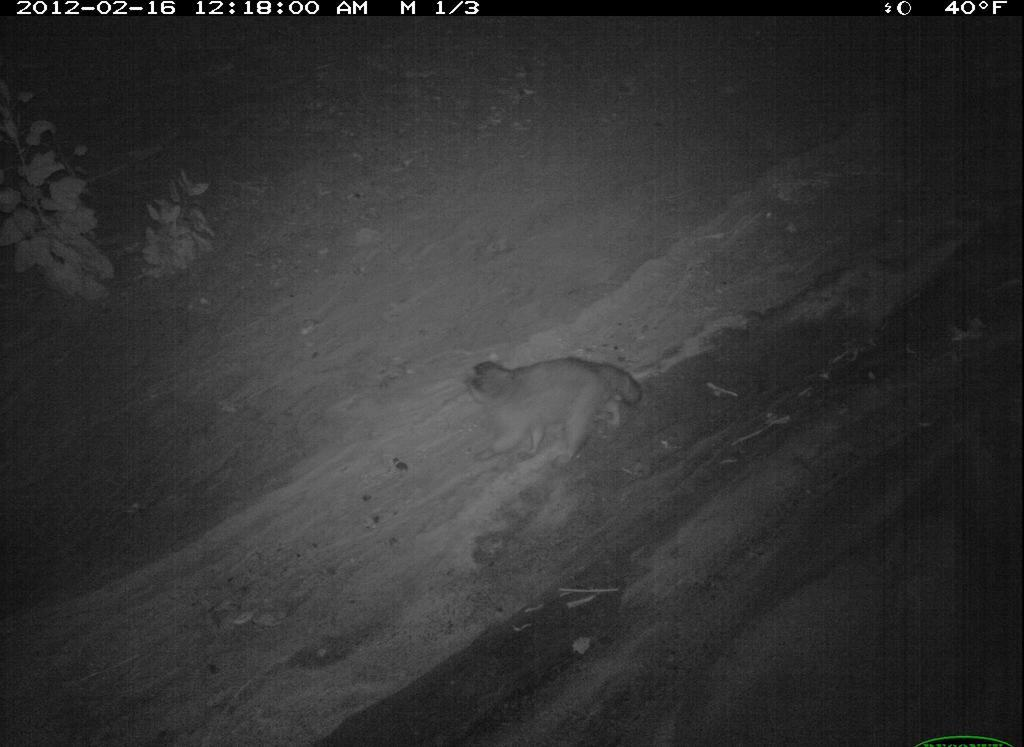raccoon: (918, 698, 1024, 747)
